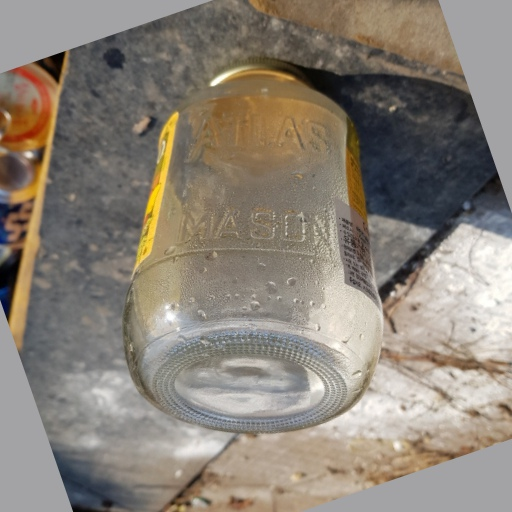Glass_5: (123, 58, 385, 435)
